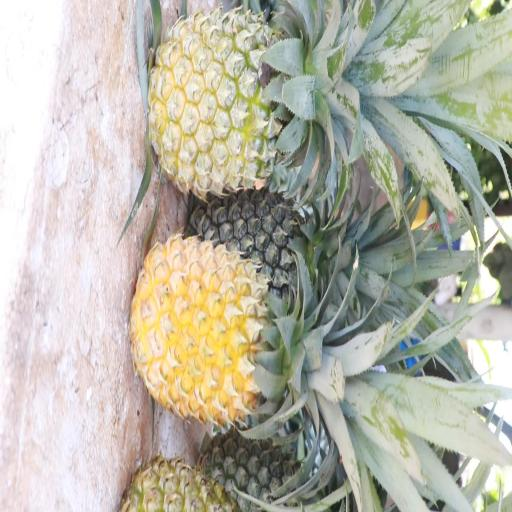------------------------------: (151, 0, 329, 195)
Pineapple - v8 v1: (140, 240, 316, 422)
